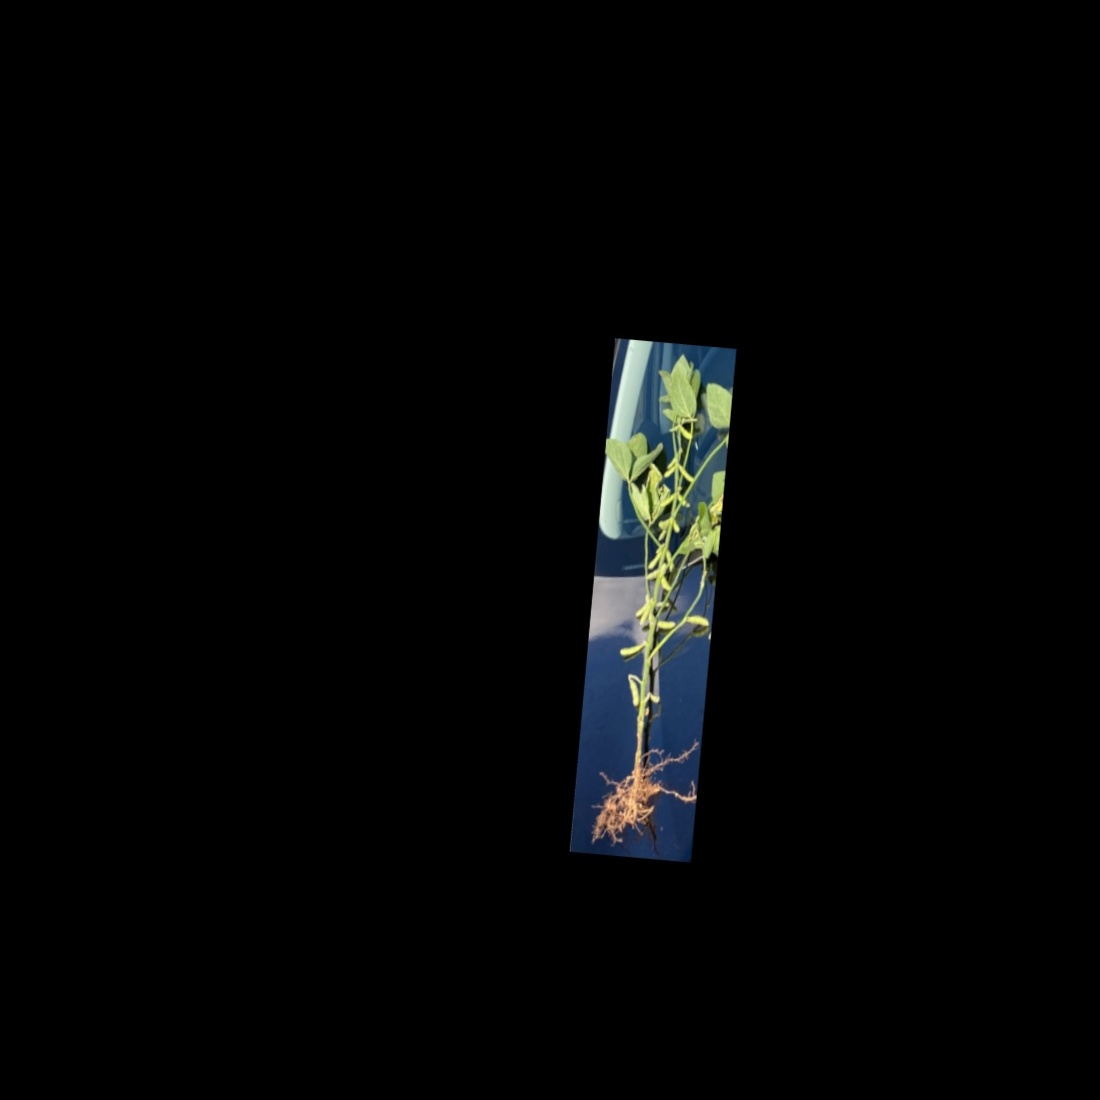pod: (645, 543, 668, 575), (615, 638, 645, 663), (624, 676, 642, 709), (683, 611, 711, 629), (676, 463, 699, 484), (676, 422, 696, 442), (652, 617, 678, 632), (661, 462, 678, 483)
soy: (571, 353, 733, 844)
